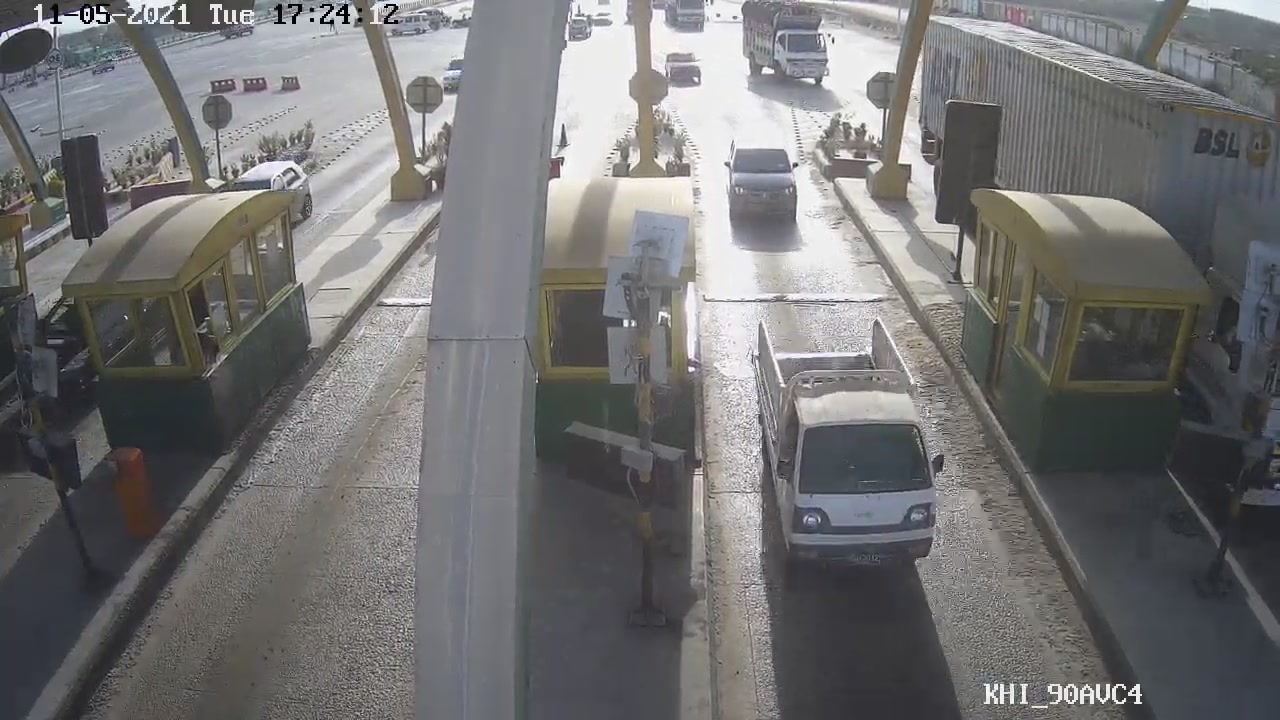F1: (746, 314, 962, 573)
